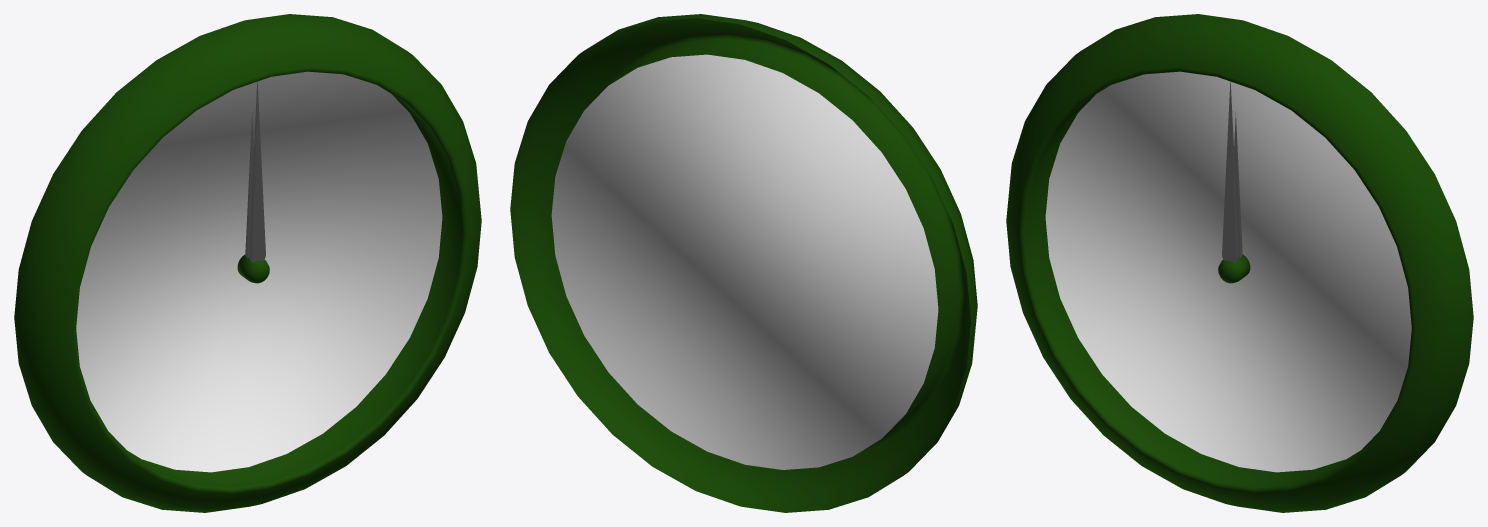
Rendered from clock.glb.
3 views of the same model, side by side, from view 1: azimuth 30°, elevation 25°; view 2: azimuth 150°, elevation 25°; view 3: azimuth 330°, elevation 25° (orthographic).
Parts seen in each view (by area): view 1: sides, minutes, centre, hours; view 2: sides; view 3: sides, minutes, centre, hours.
Part boxes in pixels (box(x1,y1,x2,y2)): sides: box(14, 14, 481, 512); minutes: box(249, 82, 265, 263); centre: box(237, 254, 269, 283); hours: box(245, 112, 253, 257); sides: box(510, 14, 977, 512); sides: box(1006, 14, 1473, 512); minutes: box(1222, 82, 1238, 263); centre: box(1218, 254, 1250, 283); hours: box(1234, 112, 1242, 257).
Size of the model in its own units: 2 by 2 by 0.1989.
